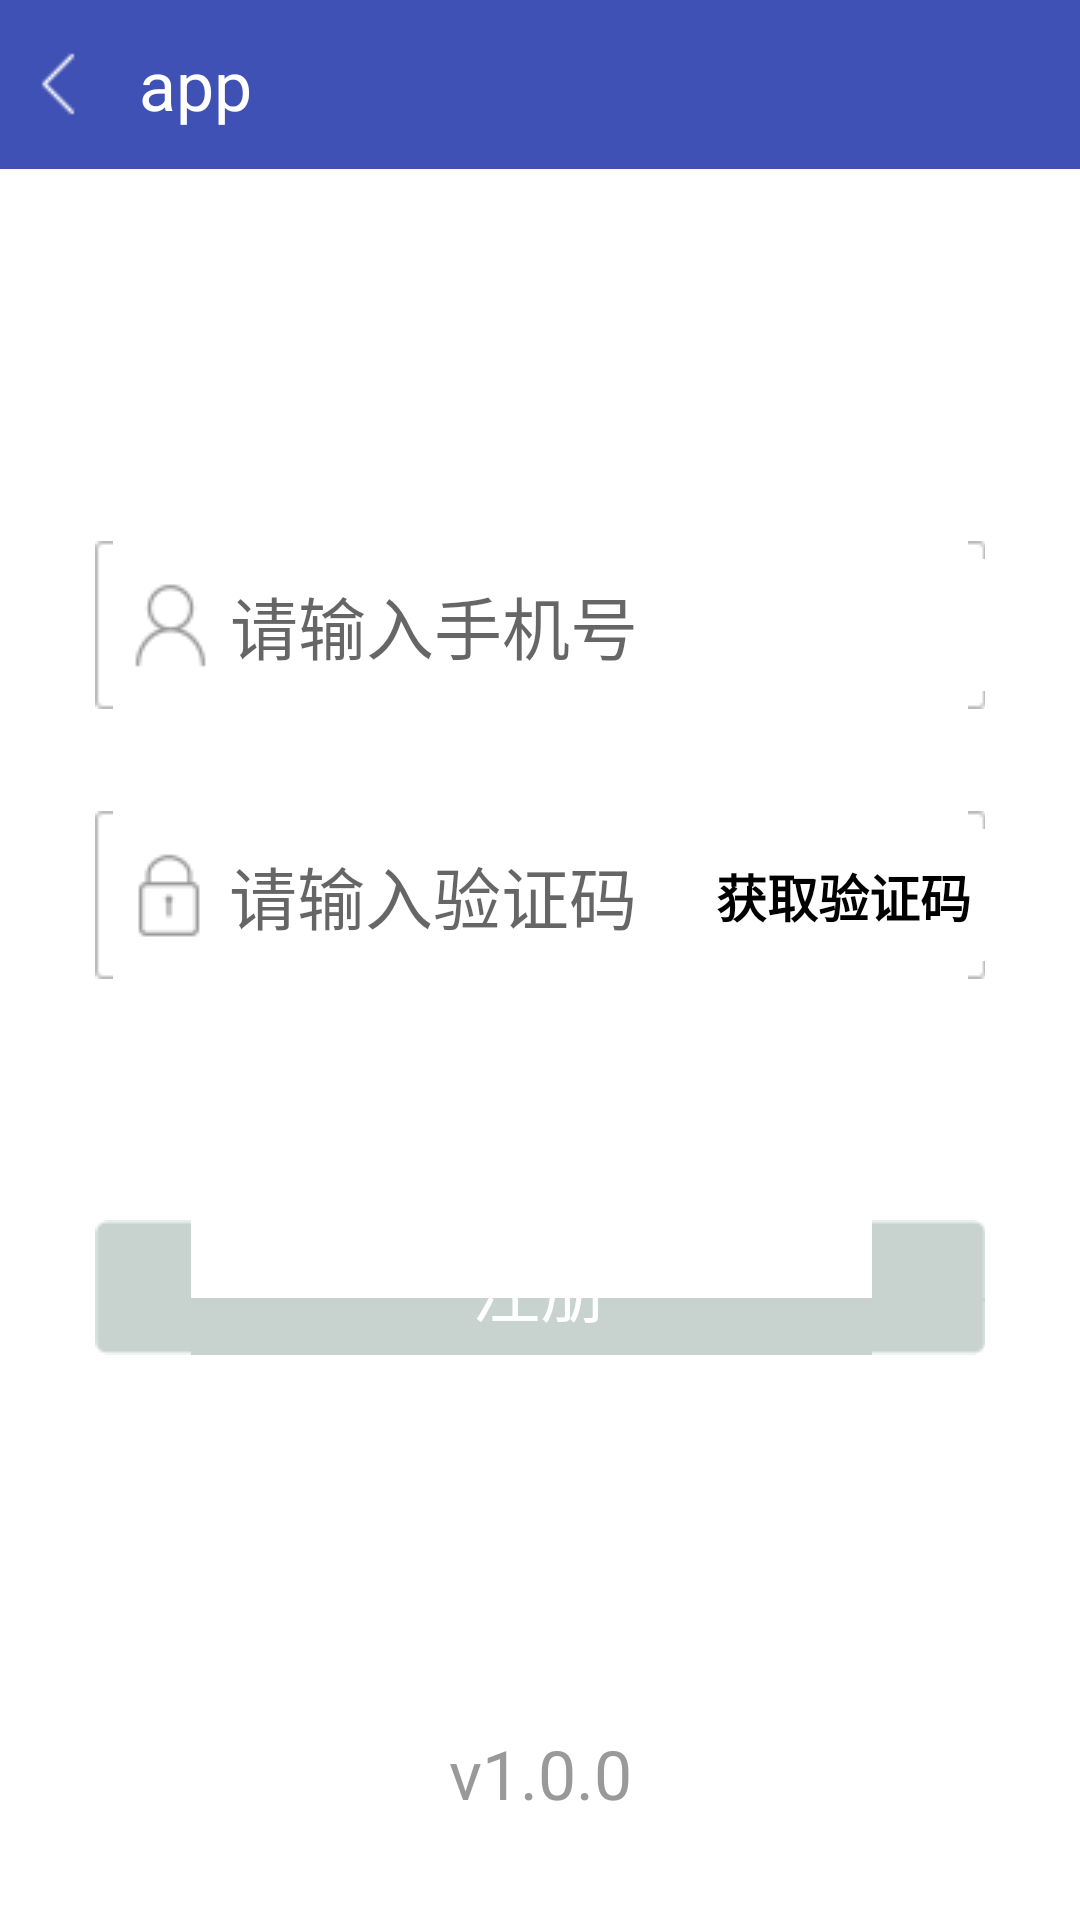

Where icons sit on this 1080w x 1920h app screen, as (x1, y1, x2, y2):
account: (135, 584, 206, 667)
back: (42, 53, 75, 115)
password: (138, 854, 200, 937)
